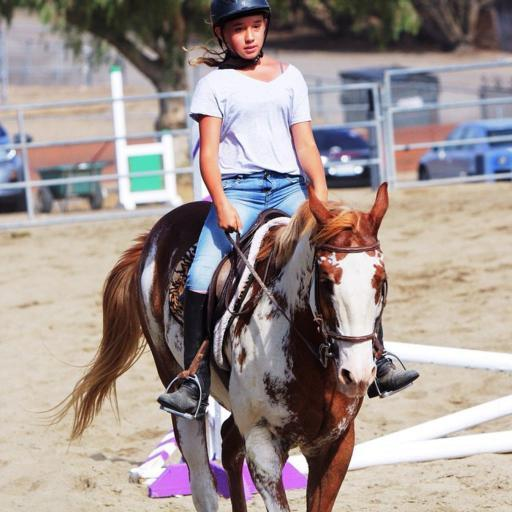Horse: (27, 182, 391, 511)
